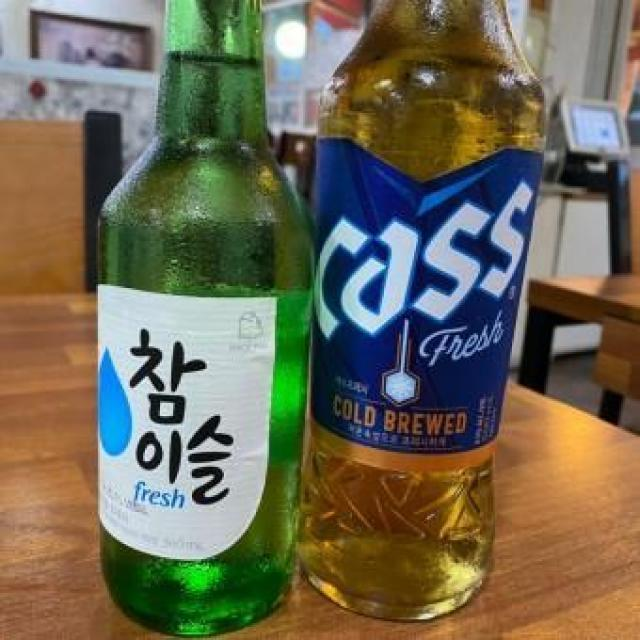beer-bottle: (338, 3, 554, 624)
soju-bottle: (89, 0, 326, 632)
